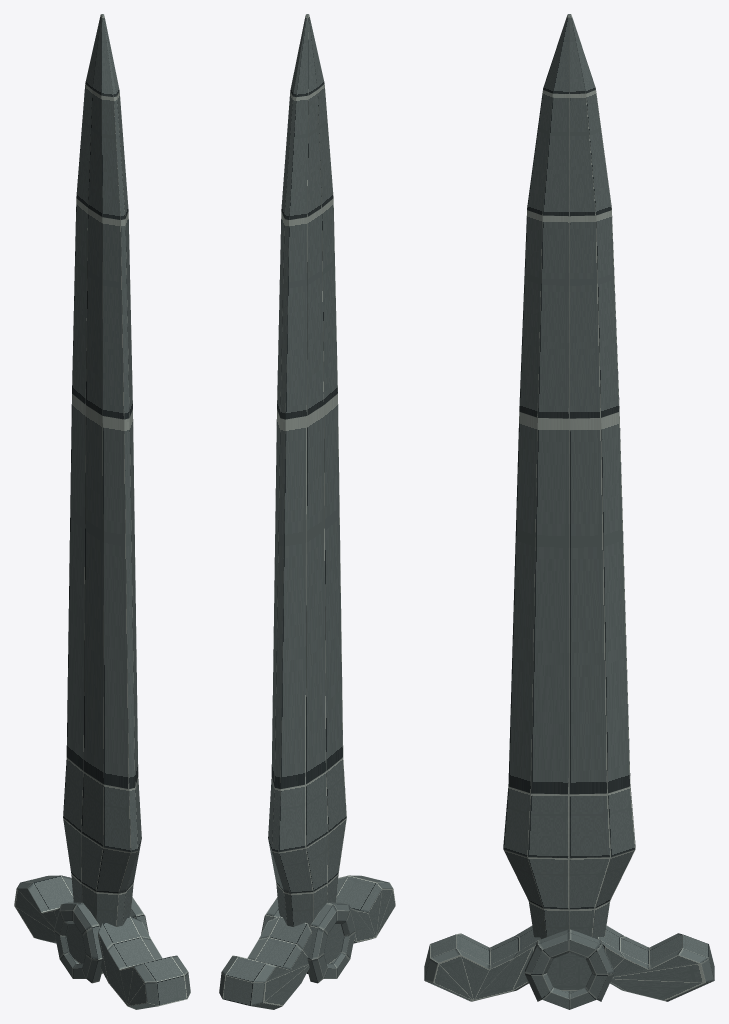
The model's file is workpiece_qingxiao_liuyun_sword_shaped.obj.
3 renders of one model, left to right at view 1: azimuth 30°, elevation 25°; view 2: azimuth 150°, elevation 25°; view 3: azimuth 270°, elevation 25°, orthographic. The views are drawn at different scales.
Visible parts, largest first — view 1: geometry; view 2: geometry; view 3: geometry.
Boxes of the visible parts, box(x1,y1,x2,y2) form: geometry: box(14, 14, 190, 1009); geometry: box(219, 14, 395, 1009); geometry: box(424, 14, 714, 1009).
Bounding box in the file's own units: 0.0844 × 1.31 × 0.3513.
